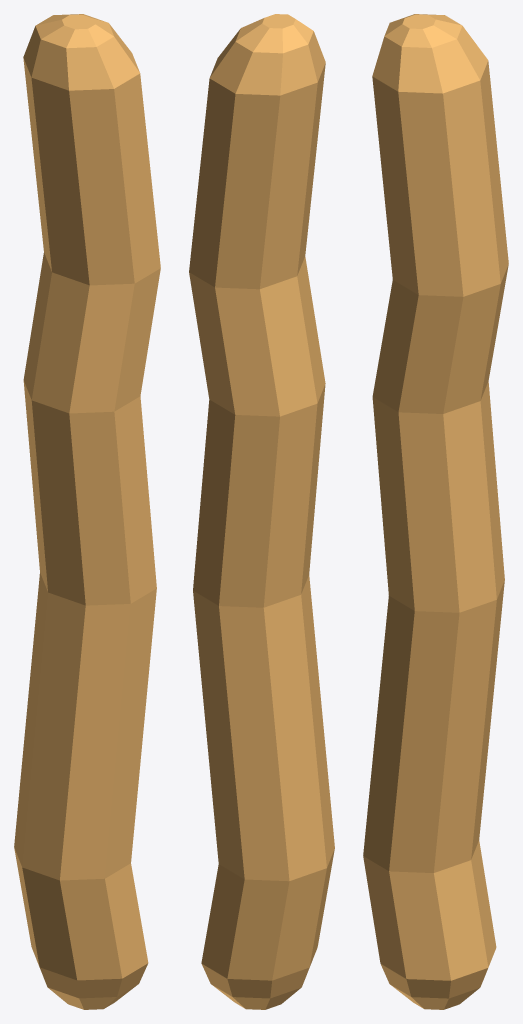
File: GinaRod.fbx
3 renders of one model, left to right at view 1: azimuth 30°, elevation 25°; view 2: azimuth 150°, elevation 25°; view 3: azimuth 330°, elevation 25°, orthographic.
Visible parts, largest first — view 1: EatGina; view 2: EatGina; view 3: EatGina.
Part boxes in pixels (x1=…): EatGina: x1=14, y1=14, x2=160, y2=1009; EatGina: x1=189, y1=14, x2=334, y2=1009; EatGina: x1=363, y1=14, x2=508, y2=1009.
Size of the model in its own units: 0.1426 by 1.03 by 0.1224.
